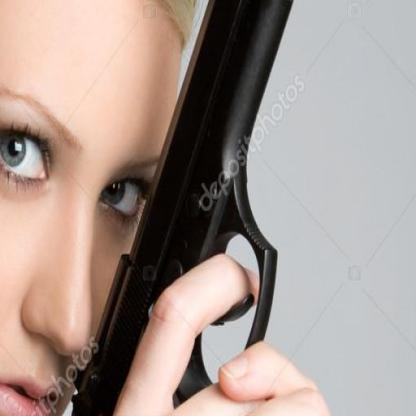gun: (63, 0, 320, 415)
